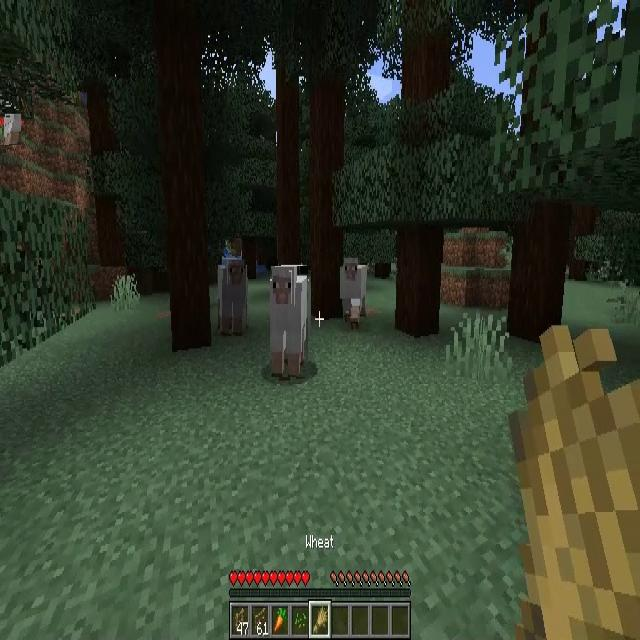sheep: (270, 266, 308, 377), (218, 259, 246, 334), (340, 260, 366, 322), (0, 109, 21, 145)
